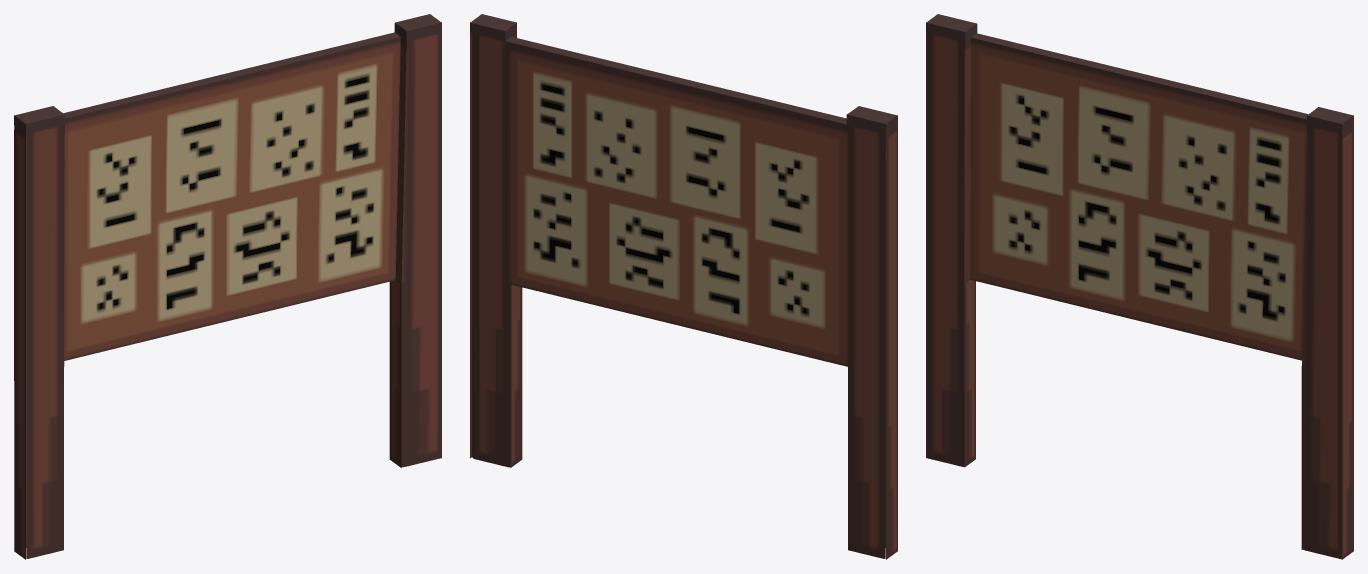
File: Sign_02.fbx
The picture shows the model from 3 angles, left to right: view 1: azimuth 30°, elevation 25°; view 2: azimuth 150°, elevation 25°; view 3: azimuth 330°, elevation 25°; orthographic projection.
Visible parts, largest first — view 1: objec 3000pxt.002; view 2: objec 3000pxt.002; view 3: objec 3000pxt.002.
Part boxes in pixels (box(x1,y1,x2,y2)): objec 3000pxt.002: box(14, 14, 441, 559); objec 3000pxt.002: box(470, 14, 897, 559); objec 3000pxt.002: box(926, 14, 1353, 559).
Bounding box in the file's own units: 90.52 × 90.65 × 4.46.
